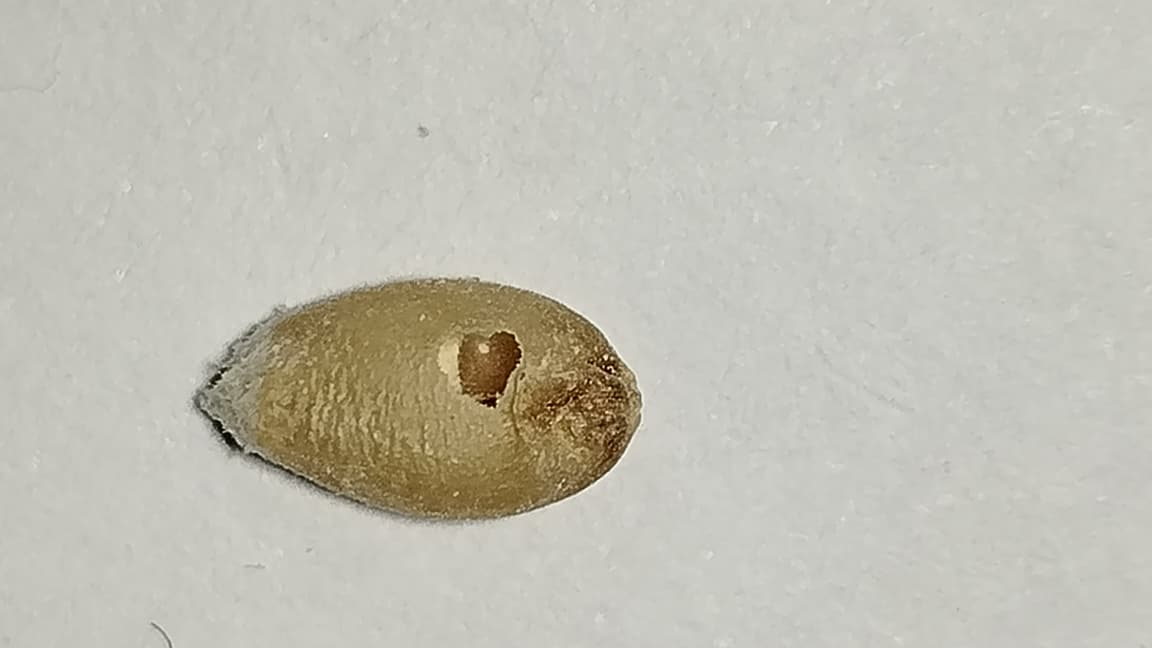damage: (216, 278, 640, 514)
insectdamage: (426, 317, 528, 423)
staindamage: (534, 328, 643, 472)
